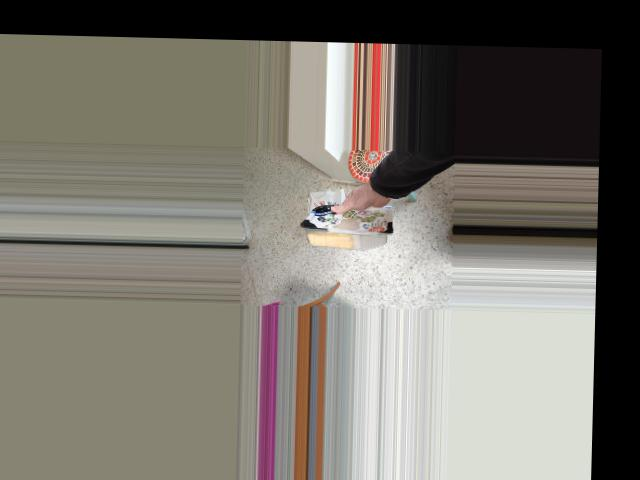cheese: (295, 181, 405, 275)
